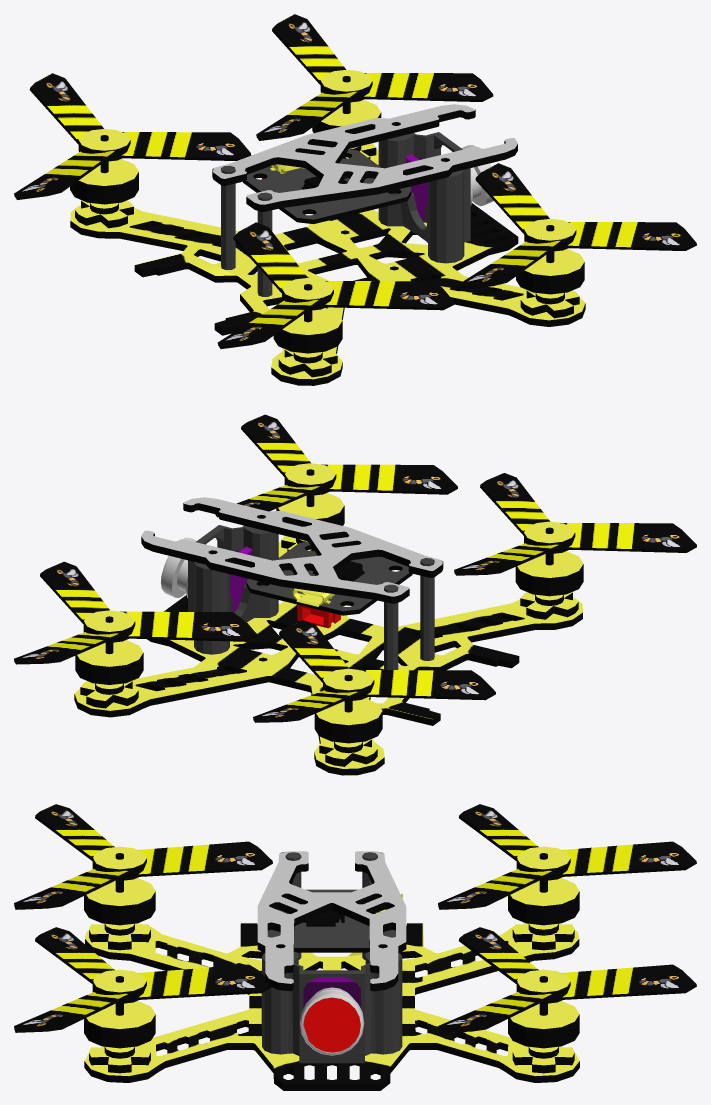
Rendered from dron.fbx.
3 renders of one model, top to bottom at view 1: azimuth 30°, elevation 25°; view 2: azimuth 150°, elevation 25°; view 3: azimuth 270°, elevation 25°, orthographic. The views are drawn at different scales.
Visible parts, largest first — view 1: drone:Ebase, pCylinder10, pCylinder11, pCylinder13, pCylinder12; view 2: drone:Ebase, pCylinder12, pCylinder13, pCylinder10, pCylinder11; view 3: drone:Ebase, pCylinder12, pCylinder10, pCylinder13, pCylinder11.
Part boxes in pixels (x1,y1,x2,y2): drone:Ebase: [70, 104, 585, 385]; pCylinder10: [217, 222, 454, 377]; pCylinder11: [460, 163, 696, 318]; pCylinder13: [14, 73, 251, 228]; pCylinder12: [256, 14, 493, 158]; drone:Ebase: [74, 497, 582, 775]; pCylinder12: [14, 561, 256, 708]; pCylinder13: [253, 620, 495, 766]; pCylinder10: [454, 473, 696, 619]; pCylinder11: [215, 414, 457, 551]; drone:Ebase: [84, 851, 579, 1090]; pCylinder12: [438, 927, 696, 1073]; pCylinder10: [14, 804, 272, 950]; pCylinder13: [438, 804, 696, 950]; pCylinder11: [14, 927, 271, 1073].
Size of the model in its own units: 108 by 23.62 by 134.
